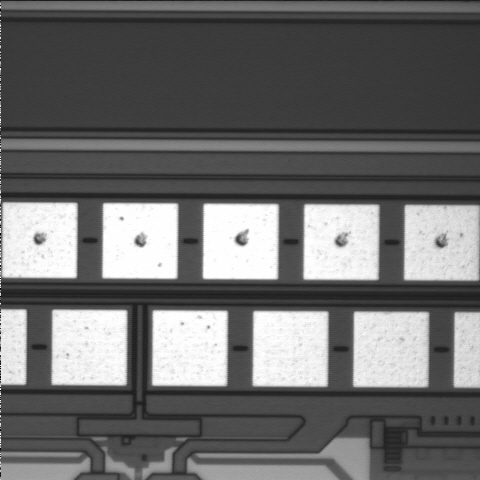pad: (102, 203, 178, 279), (303, 204, 379, 280), (152, 310, 228, 386), (203, 204, 279, 279), (253, 311, 328, 387), (353, 312, 429, 387), (2, 203, 77, 278), (52, 310, 127, 385)
